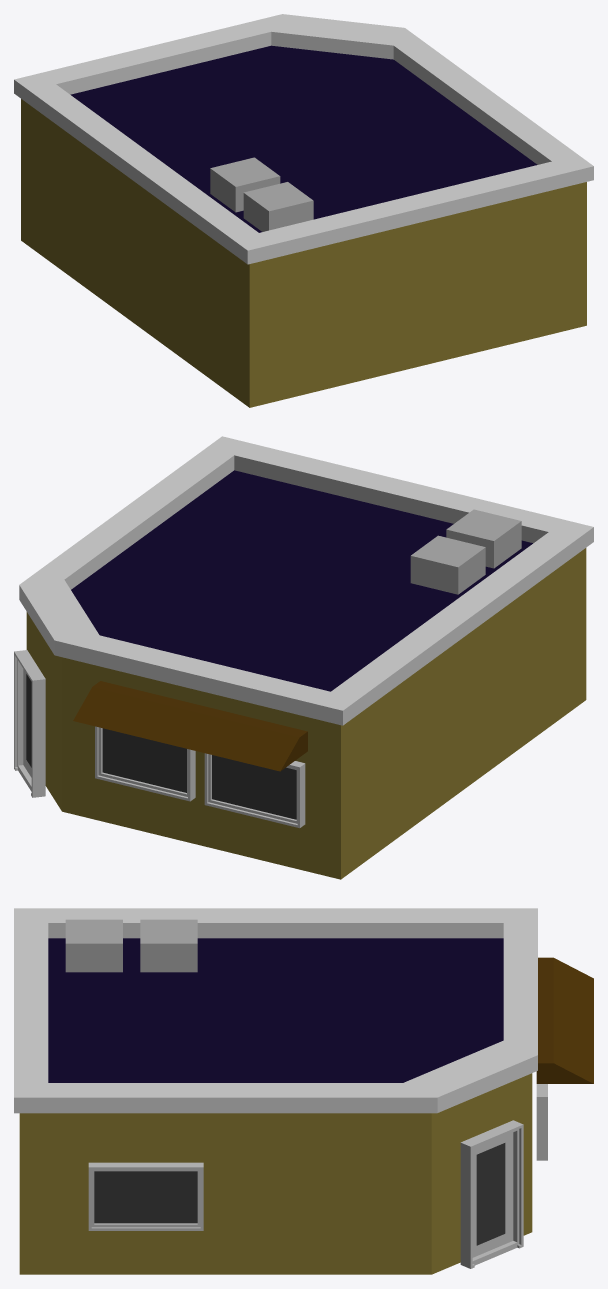
Rendered from Building 10.fbx.
3 renders of one model, top to bottom at view 1: azimuth 30°, elevation 25°; view 2: azimuth 150°, elevation 25°; view 3: azimuth 270°, elevation 25°, orthographic. The views are drawn at different scales.
Visible parts, largest first — view 1: Building_10; view 2: Building_10; view 3: Building_10.
Part boxes in pixels (box(x1,y1,x2,y2)): Building_10: box(14, 14, 593, 407); Building_10: box(14, 436, 593, 879); Building_10: box(14, 908, 593, 1274).
Bounding box in the file's own units: 800 × 370 × 1010.
